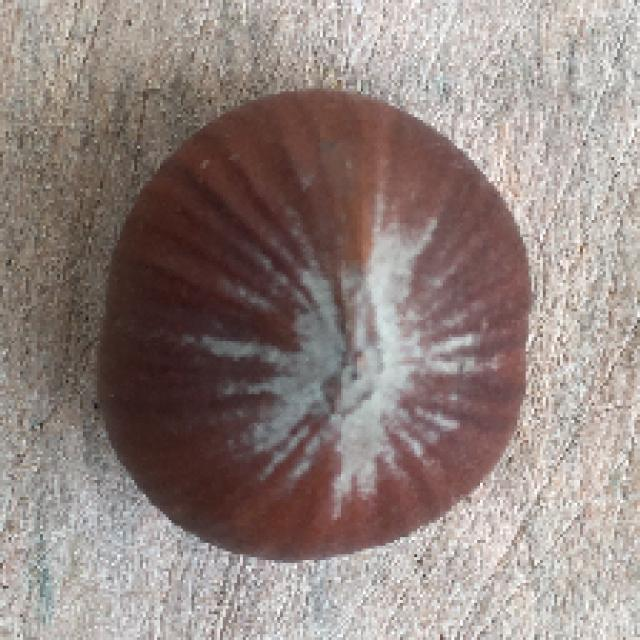damagedHazelnut: (90, 83, 538, 566)
